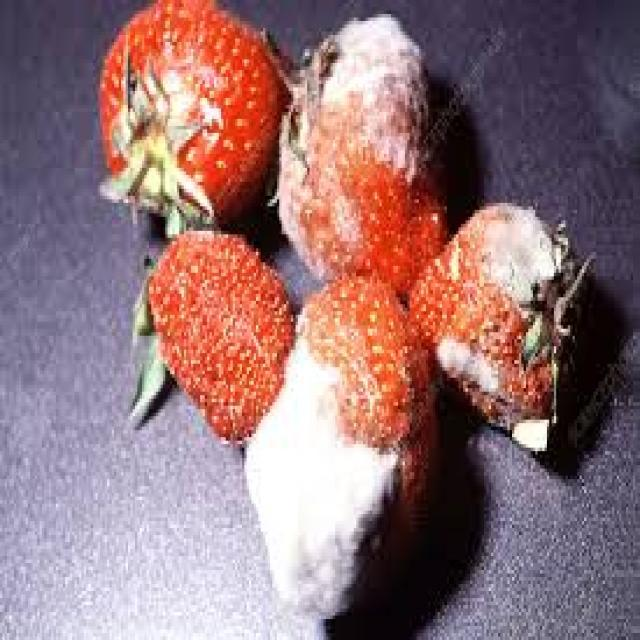Moho gris: (269, 272, 436, 610), (288, 12, 444, 311), (86, 0, 280, 227), (407, 194, 588, 437), (121, 252, 300, 439)
